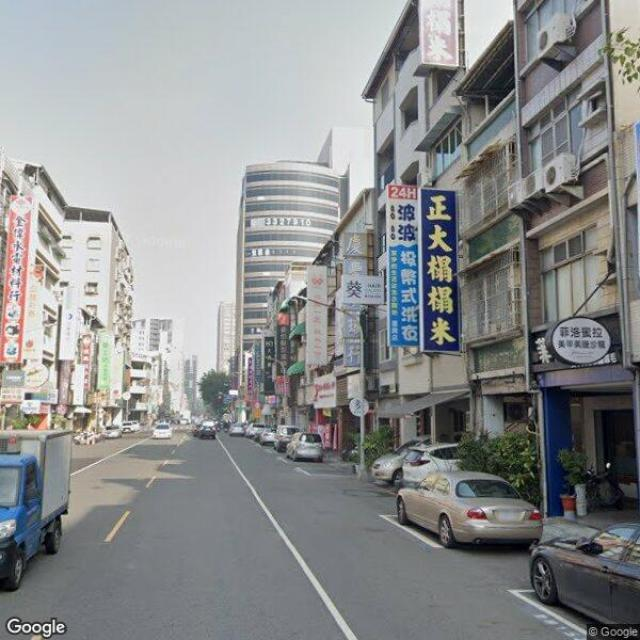Legalparking: (380, 422, 640, 640), (254, 403, 332, 469)
illegalparking: (95, 414, 154, 450)
